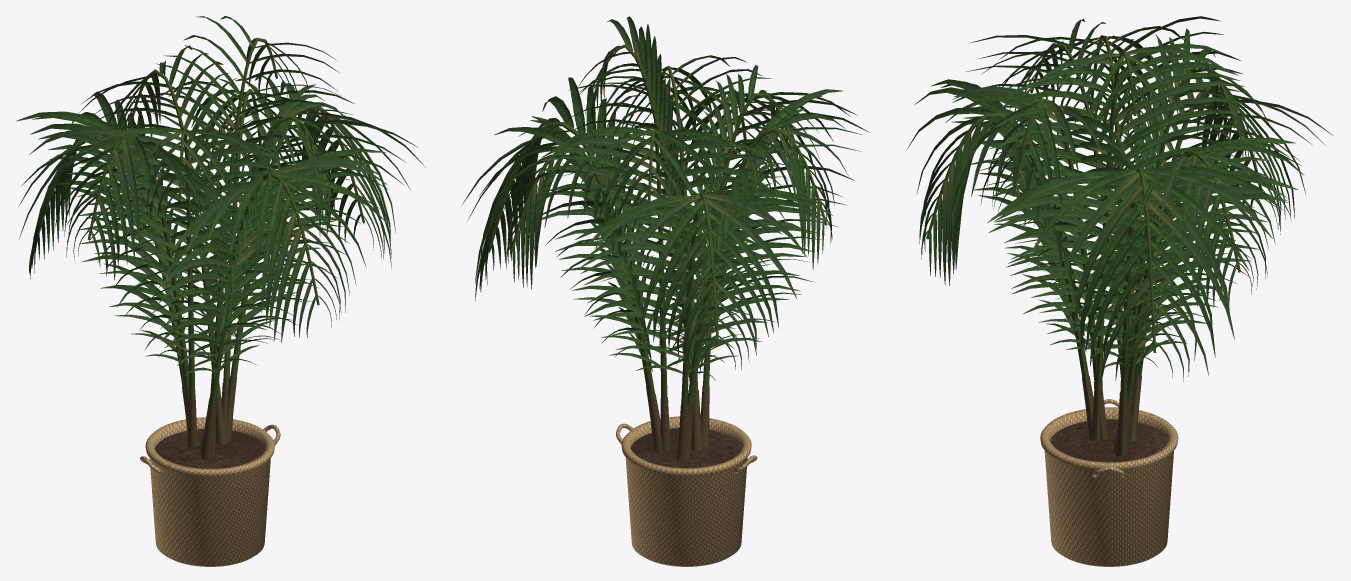
The model's file is kentia_140.glb.
The picture shows the model from 3 angles, left to right: view 1: azimuth 30°, elevation 25°; view 2: azimuth 150°, elevation 25°; view 3: azimuth 270°, elevation 25°; orthographic projection. The views are drawn at different scales.
Parts seen in each view (by area): view 1: kentia_140; view 2: kentia_140; view 3: kentia_140.
Part boxes in pixels (x1,y1,x2,y2): kentia_140: (16,16,425,566); kentia_140: (462,16,869,566); kentia_140: (907,16,1333,566).
Size of the model in its own units: 1.05 by 1.4 by 1.05.
3 materials, 3 textured.
